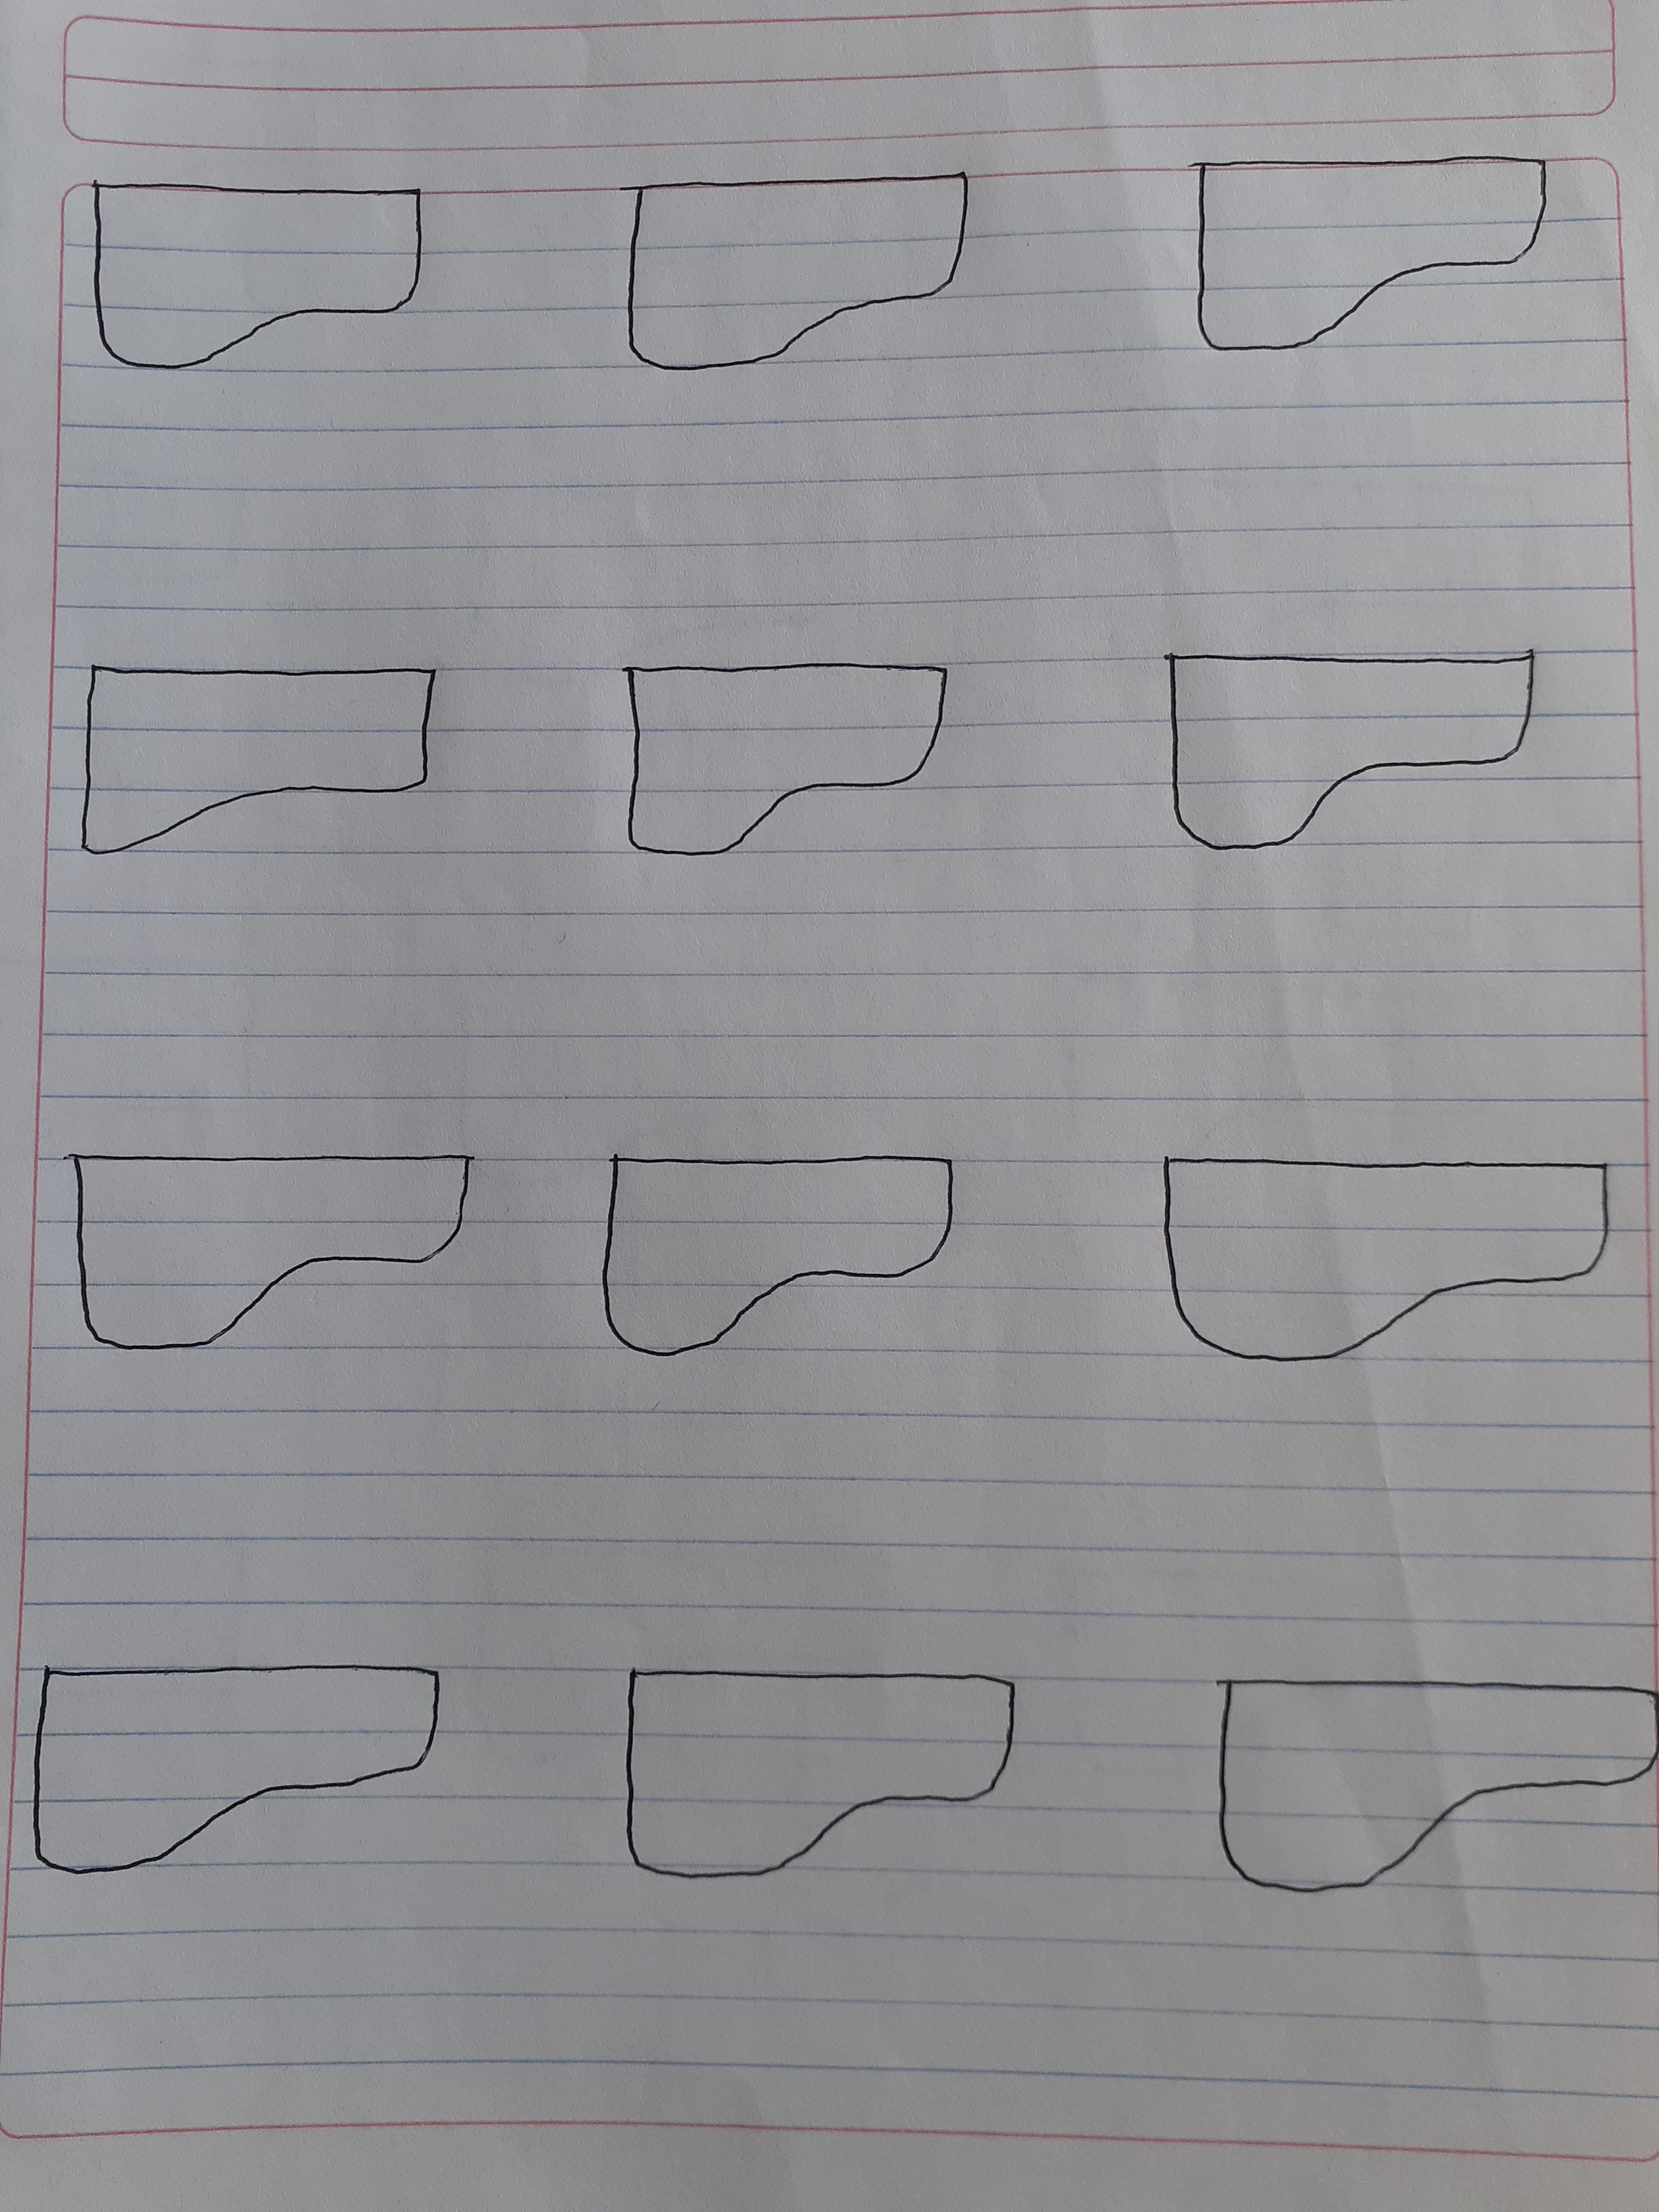print: (1105, 1113, 1638, 1407), (1183, 1641, 1659, 1946), (598, 1644, 1086, 1919), (573, 1092, 997, 1400), (17, 1632, 498, 1895), (1112, 618, 1579, 876), (49, 1120, 512, 1374), (71, 160, 498, 397), (45, 648, 476, 880), (1176, 131, 1579, 374), (613, 160, 993, 397), (598, 644, 983, 866)
